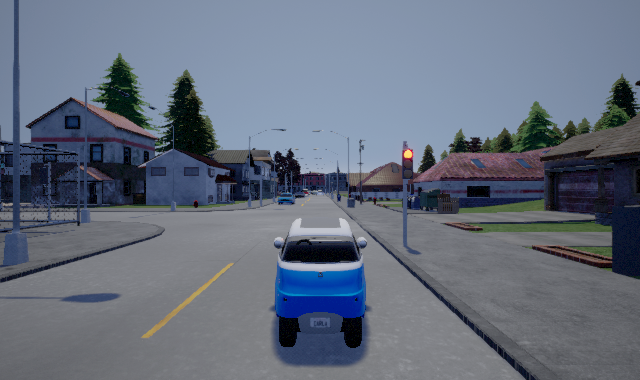traffic_light: (402, 143, 413, 185)
vehicle: (273, 217, 367, 348), (277, 189, 295, 205)
